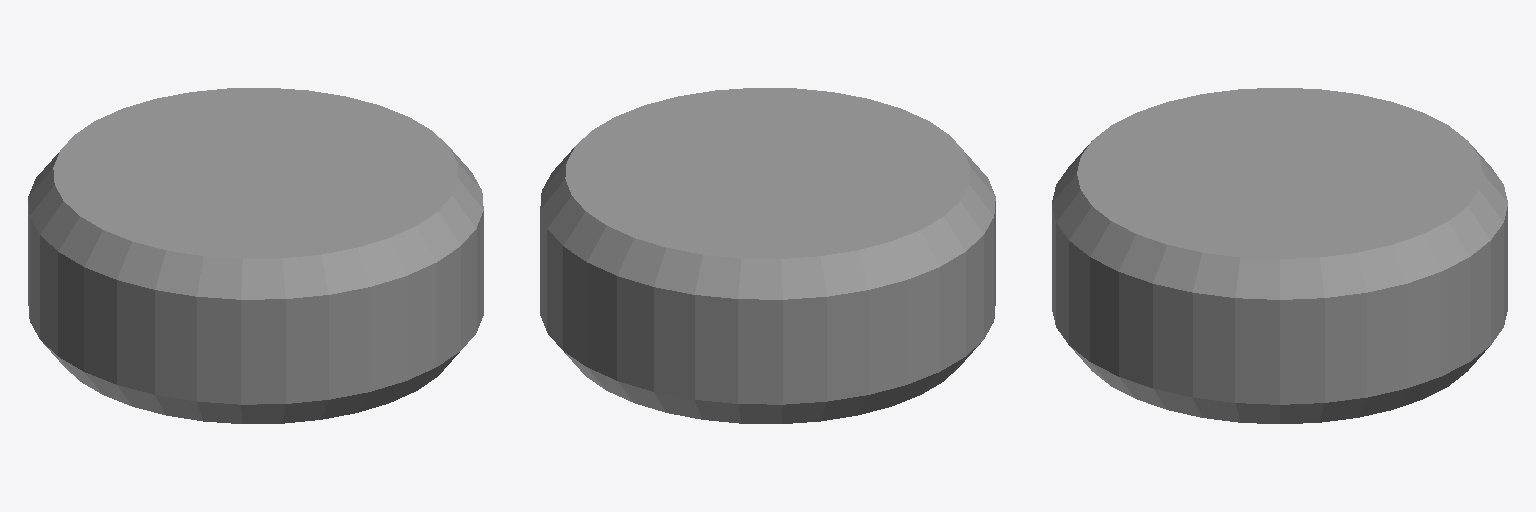
Rendered from wheel.obj.
The picture shows the model from 3 angles: view 1: azimuth 30°, elevation 25°; view 2: azimuth 150°, elevation 25°; view 3: azimuth 270°, elevation 25°; orthographic projection.
Parts seen in each view (by area): view 1: Cube.001_Cube.002; view 2: Cube.001_Cube.002; view 3: Cube.001_Cube.002.
Part boxes in pixels (x1,y1,x2,y2): Cube.001_Cube.002: (28,88,483,423); Cube.001_Cube.002: (540,88,995,423); Cube.001_Cube.002: (1052,88,1507,423).
Size of the model in its own units: 0.8816 by 0.3521 by 0.8816.